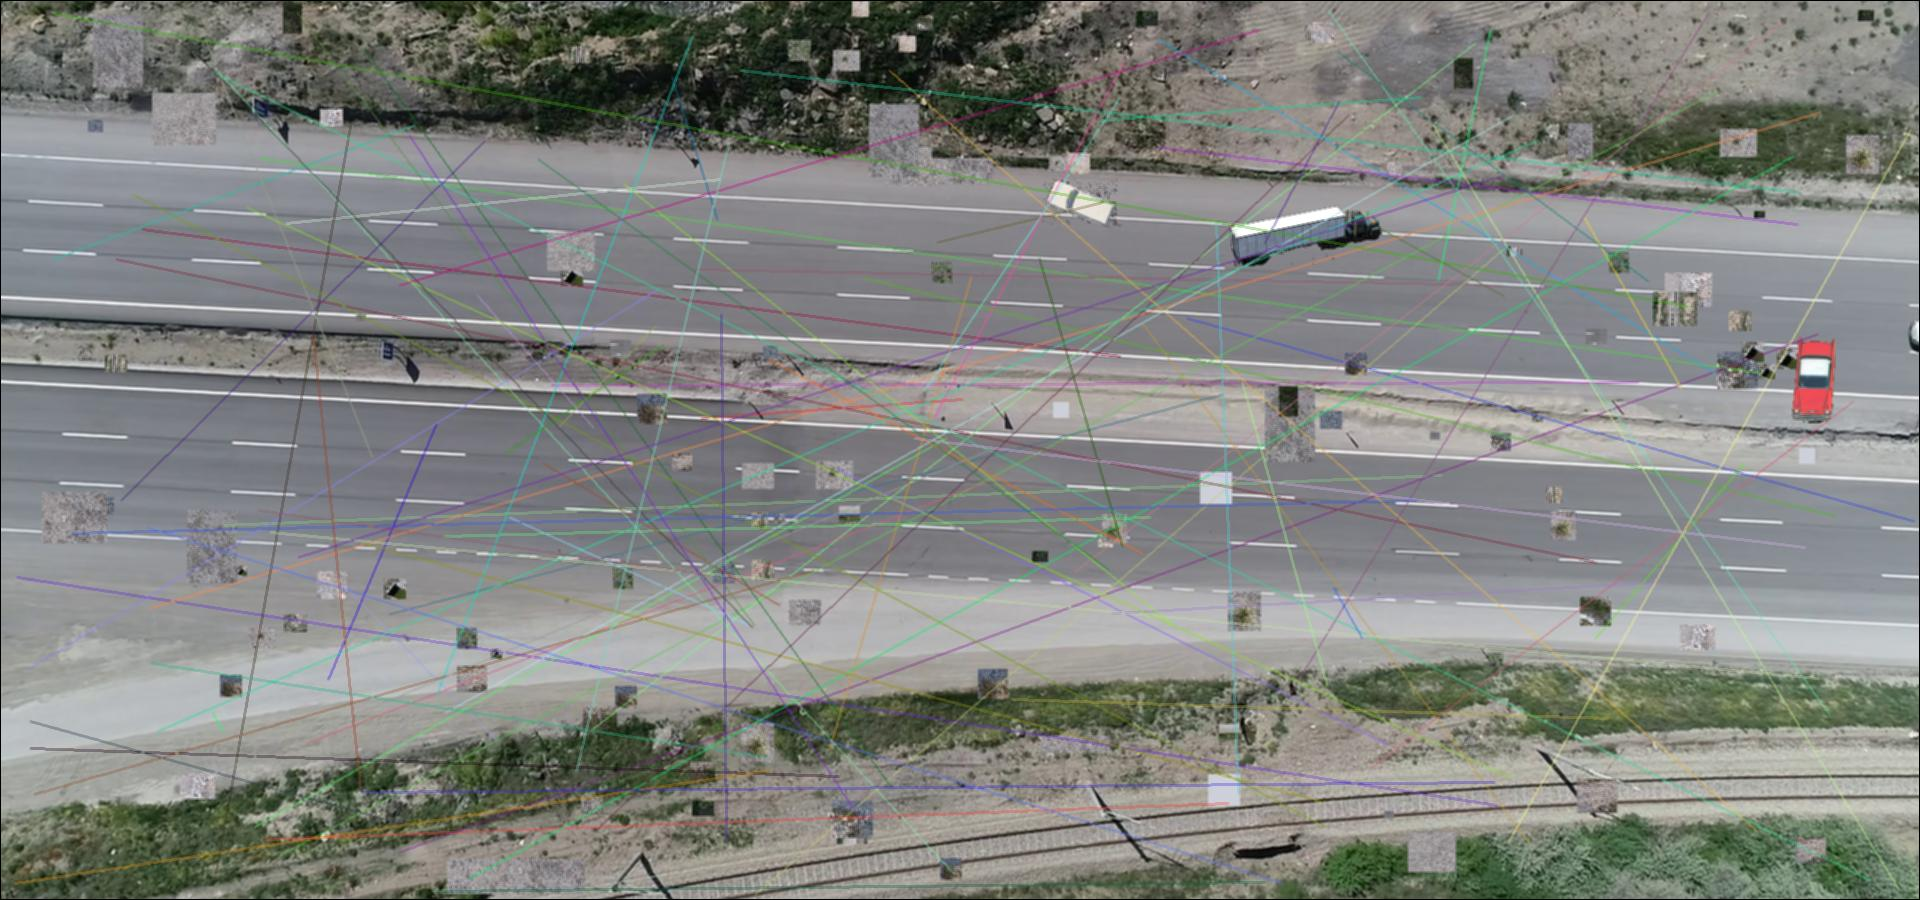arac: (1227, 204, 1384, 266), (1791, 336, 1836, 424), (1043, 179, 1117, 224)
